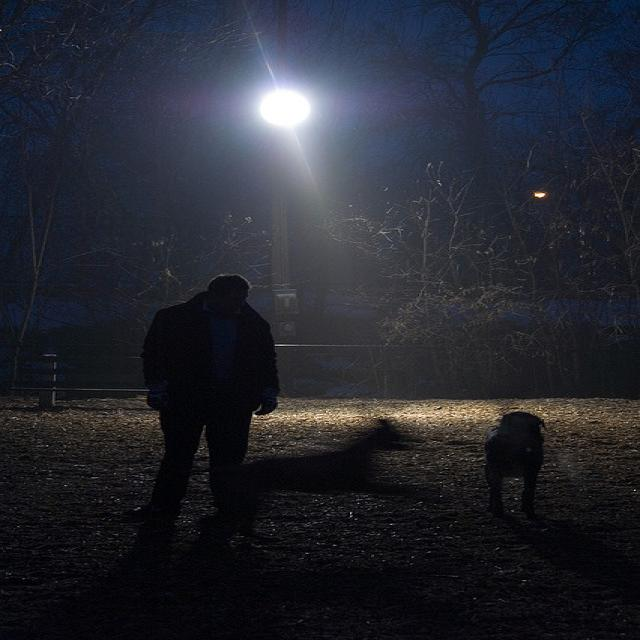Dog: (437, 349, 581, 509)
